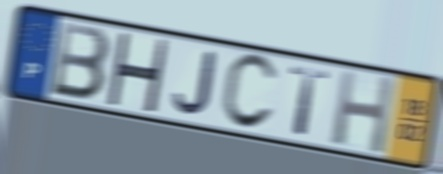B: (48, 19, 113, 104)
C: (218, 52, 280, 133)
H: (329, 67, 397, 158), (104, 29, 171, 115)
J: (170, 49, 218, 118)
T: (288, 64, 333, 139)
